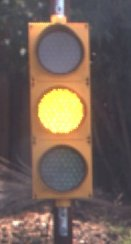Yellow: (25, 18, 92, 205)
